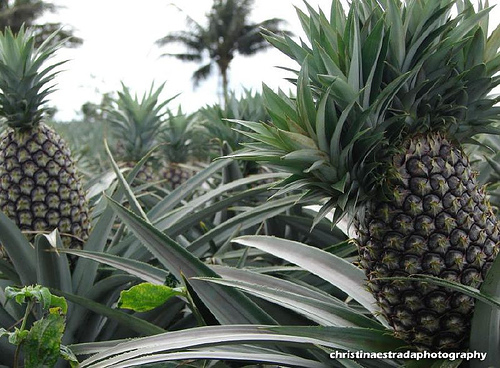pineapple: (211, 0, 499, 351), (1, 22, 91, 272), (91, 77, 184, 204), (159, 108, 198, 201)
